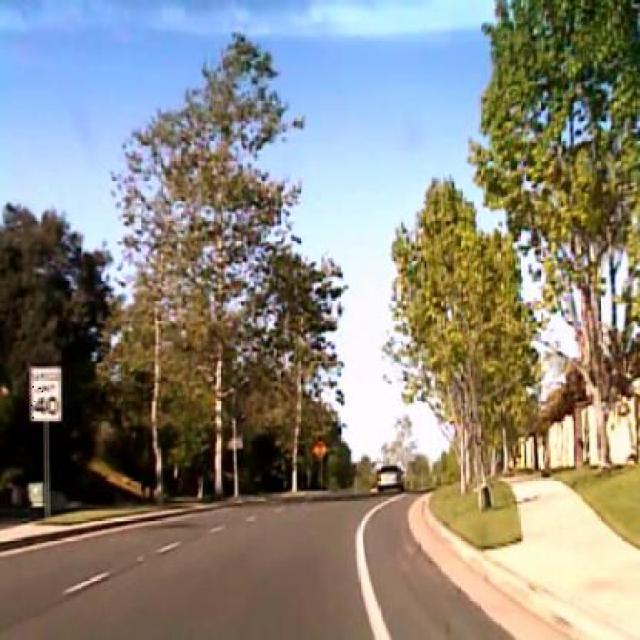signalAhead: (310, 437, 328, 460)
speedLimit40: (30, 363, 60, 421)
